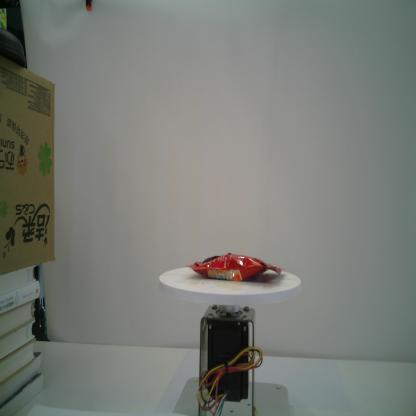Instant Drink: (182, 248, 284, 283)
